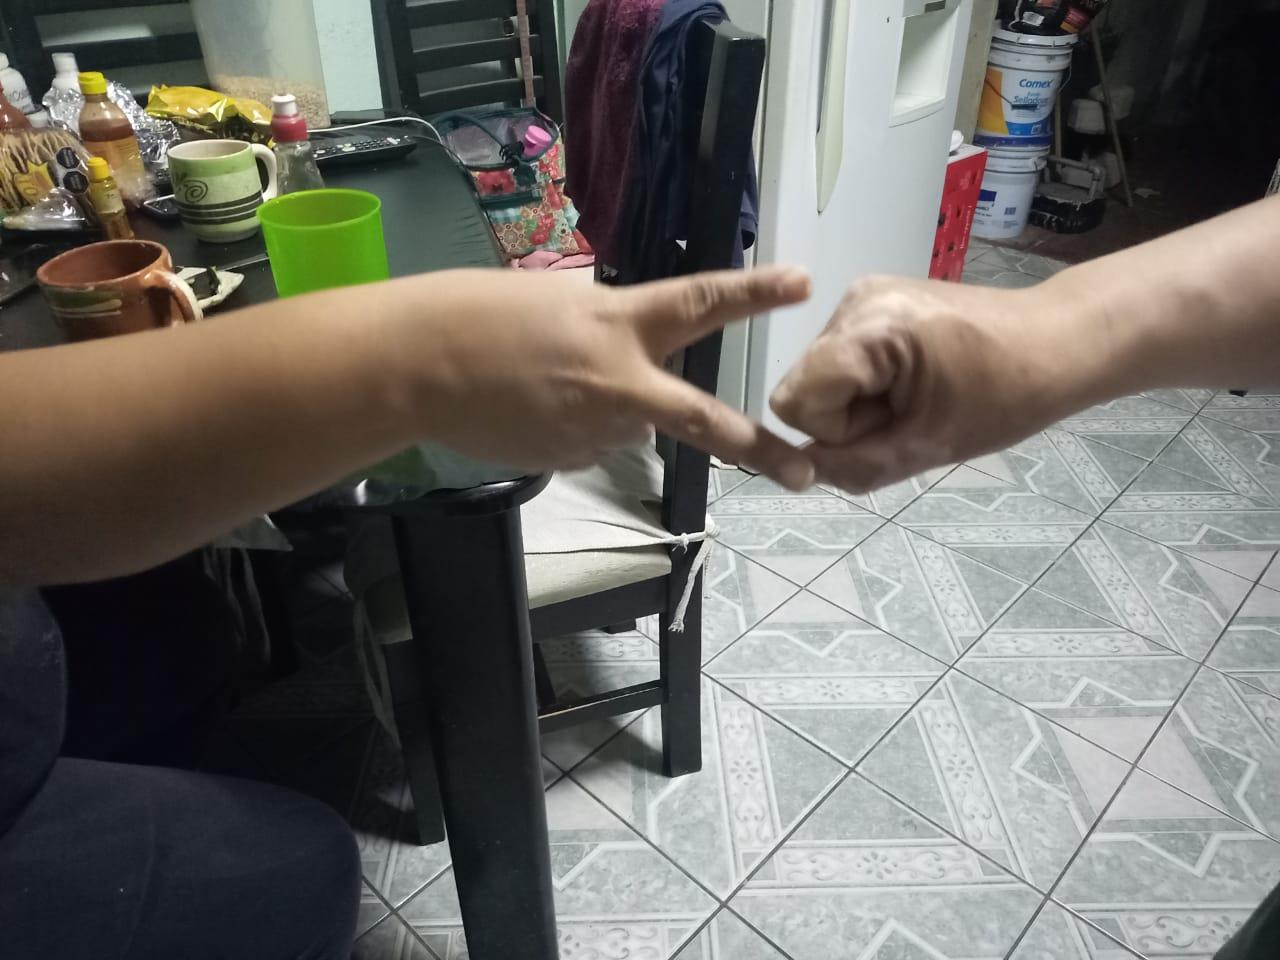Scissor: (358, 214, 818, 564)
Stone: (767, 240, 1170, 496)
